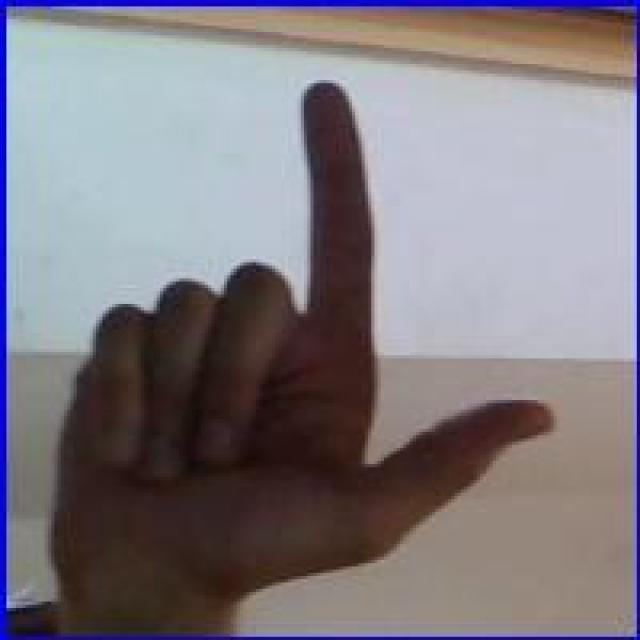L: (43, 78, 562, 597)
